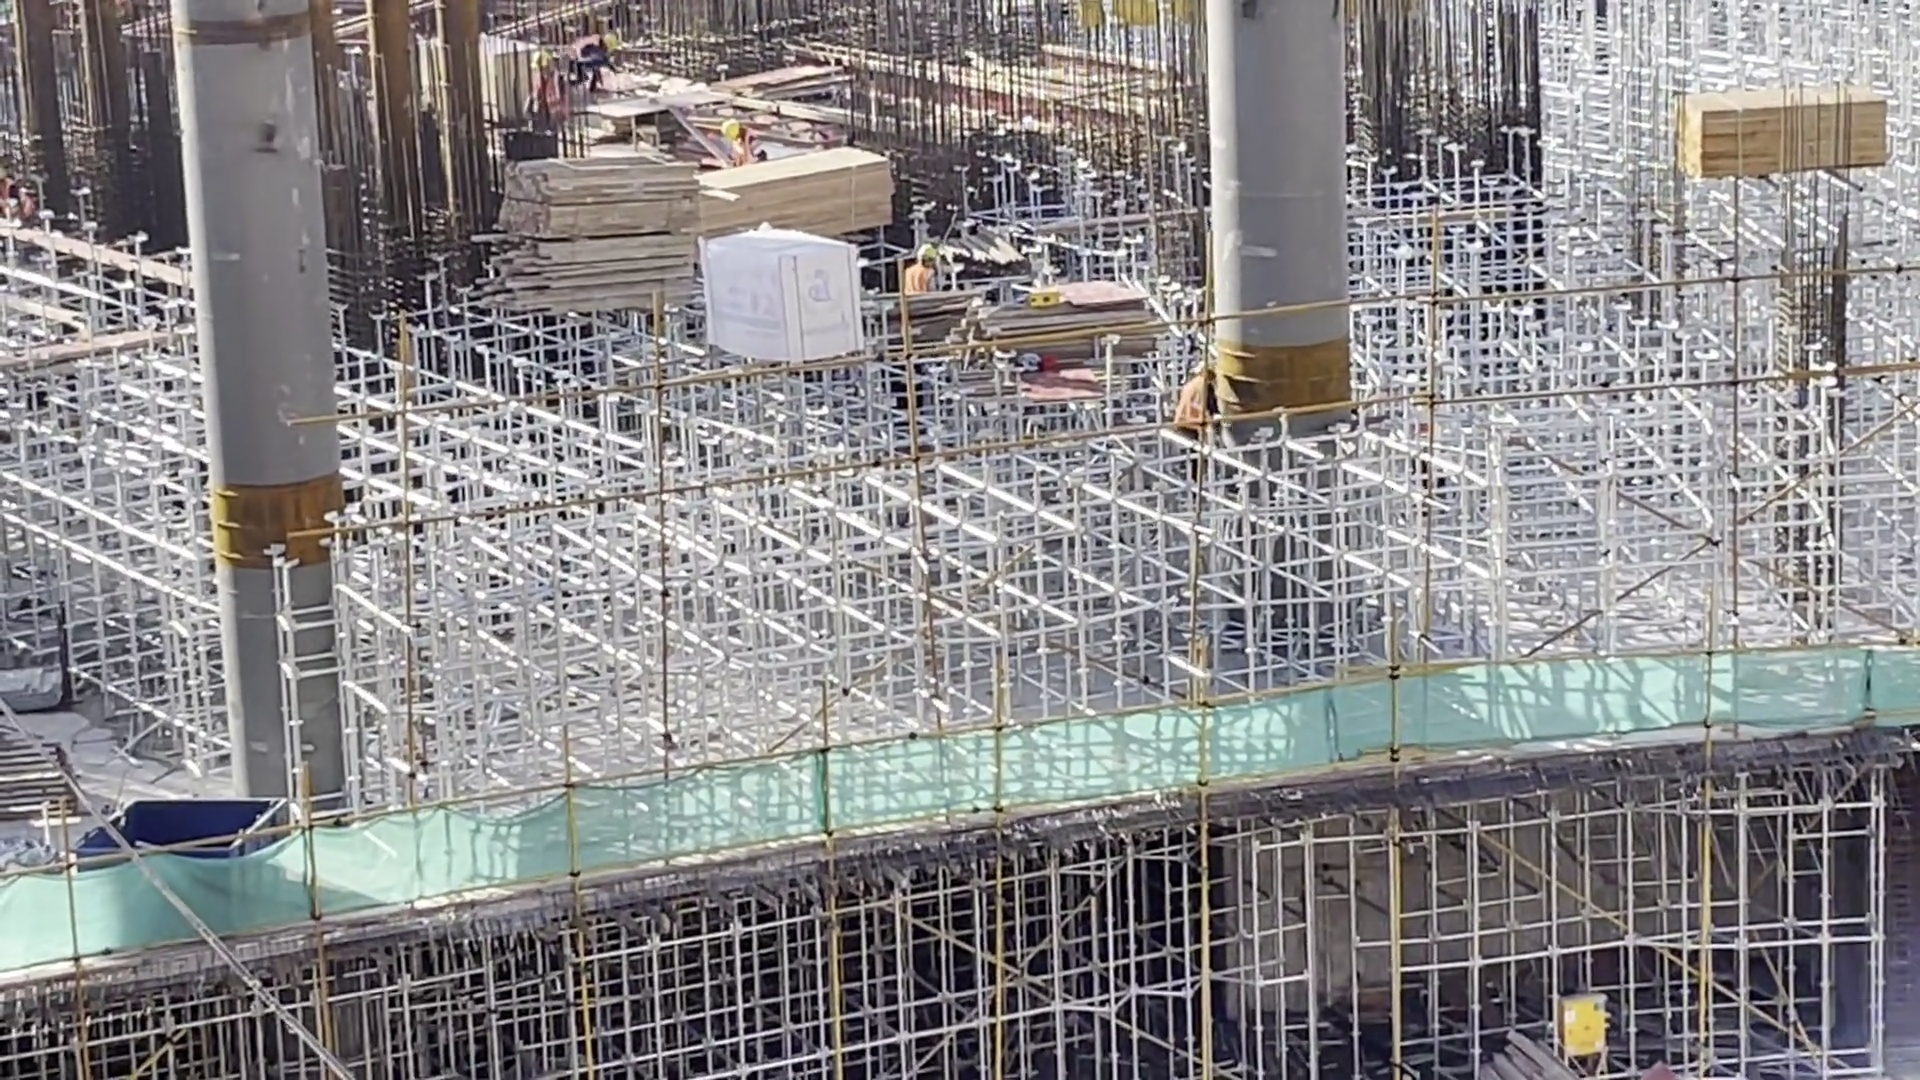board: (954, 279, 1171, 360)
ebox: (1560, 986, 1608, 1071)
helmet: (721, 122, 740, 142), (917, 242, 938, 260), (602, 32, 618, 54)
hopper: (66, 793, 295, 830)
person: (1163, 363, 1223, 424), (567, 27, 621, 91), (718, 120, 769, 161), (907, 245, 944, 295)
vest: (1172, 377, 1212, 423), (732, 131, 760, 163), (904, 266, 934, 293), (576, 35, 601, 60)
wood: (467, 157, 699, 306), (1677, 79, 1893, 187), (706, 145, 897, 234)
